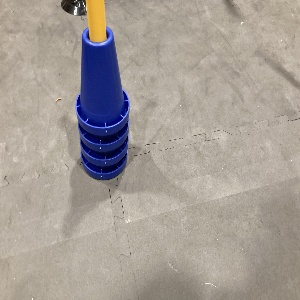Blue_4: (75, 25, 129, 179)
